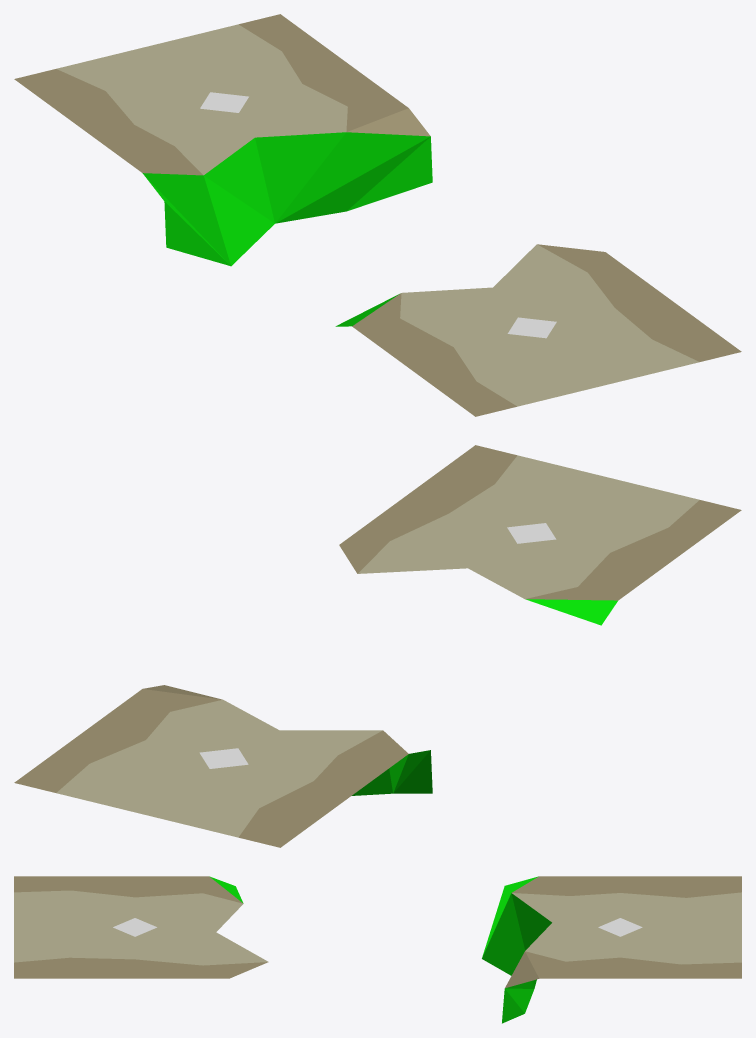
The model's file is Jump Right.fbx.
The picture shows the model from 3 angles, top to bottom: view 1: azimuth 30°, elevation 25°; view 2: azimuth 150°, elevation 25°; view 3: azimuth 270°, elevation 25°; orthographic projection. The views are drawn at different scales.
Visible parts, largest first — view 1: polySurface7637; view 2: polySurface7637; view 3: polySurface7637.
Part boxes in pixels (x1,y1,x2,y2): polySurface7637: (14, 14, 741, 416); polySurface7637: (14, 445, 741, 847); polySurface7637: (14, 876, 741, 1023).
Size of the model in its own units: 100 by 28.76 by 300.
